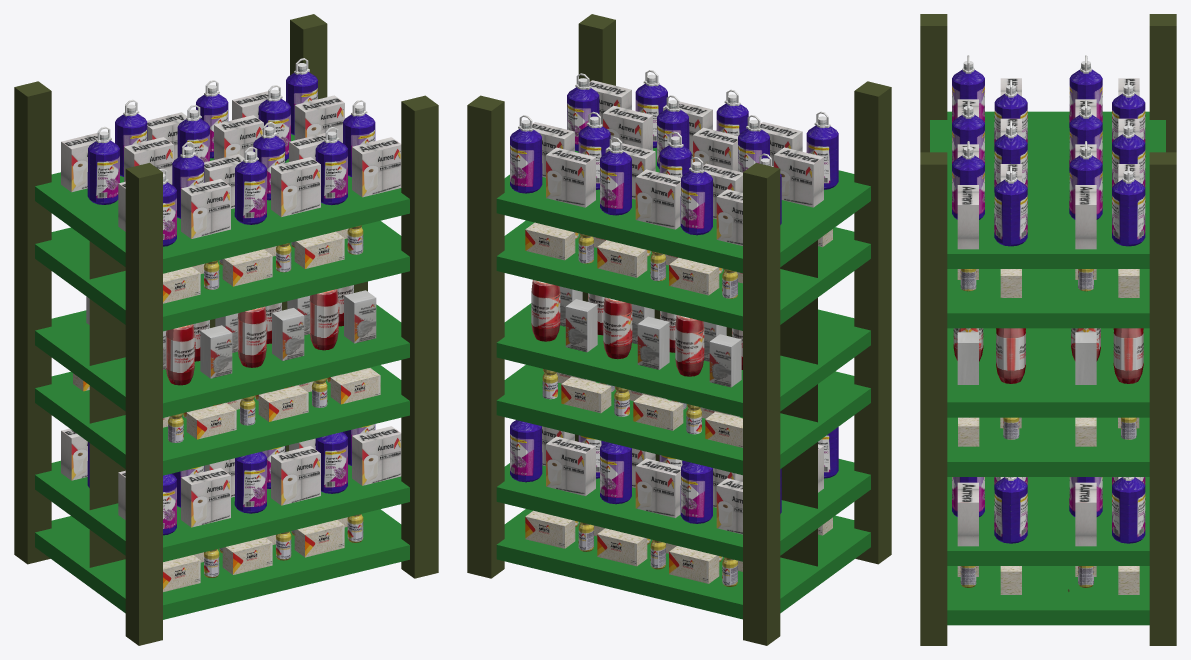
Rendered from almacen_lleno.fbx.
3 renders of one model, left to right at view 1: azimuth 30°, elevation 25°; view 2: azimuth 150°, elevation 25°; view 3: azimuth 270°, elevation 25°, orthographic. The views are drawn at different scales.
Visible parts, largest first — view 1: aceite.001; view 2: aceite.001; view 3: aceite.001.
Boxes of the visible parts, left/top/right/bottom form: aceite.001: left=14, top=14, right=438, bottom=645; aceite.001: left=467, top=14, right=891, bottom=645; aceite.001: left=920, top=14, right=1176, bottom=645.
Size of the model in its own units: 3333 by 4970 by 2400.
